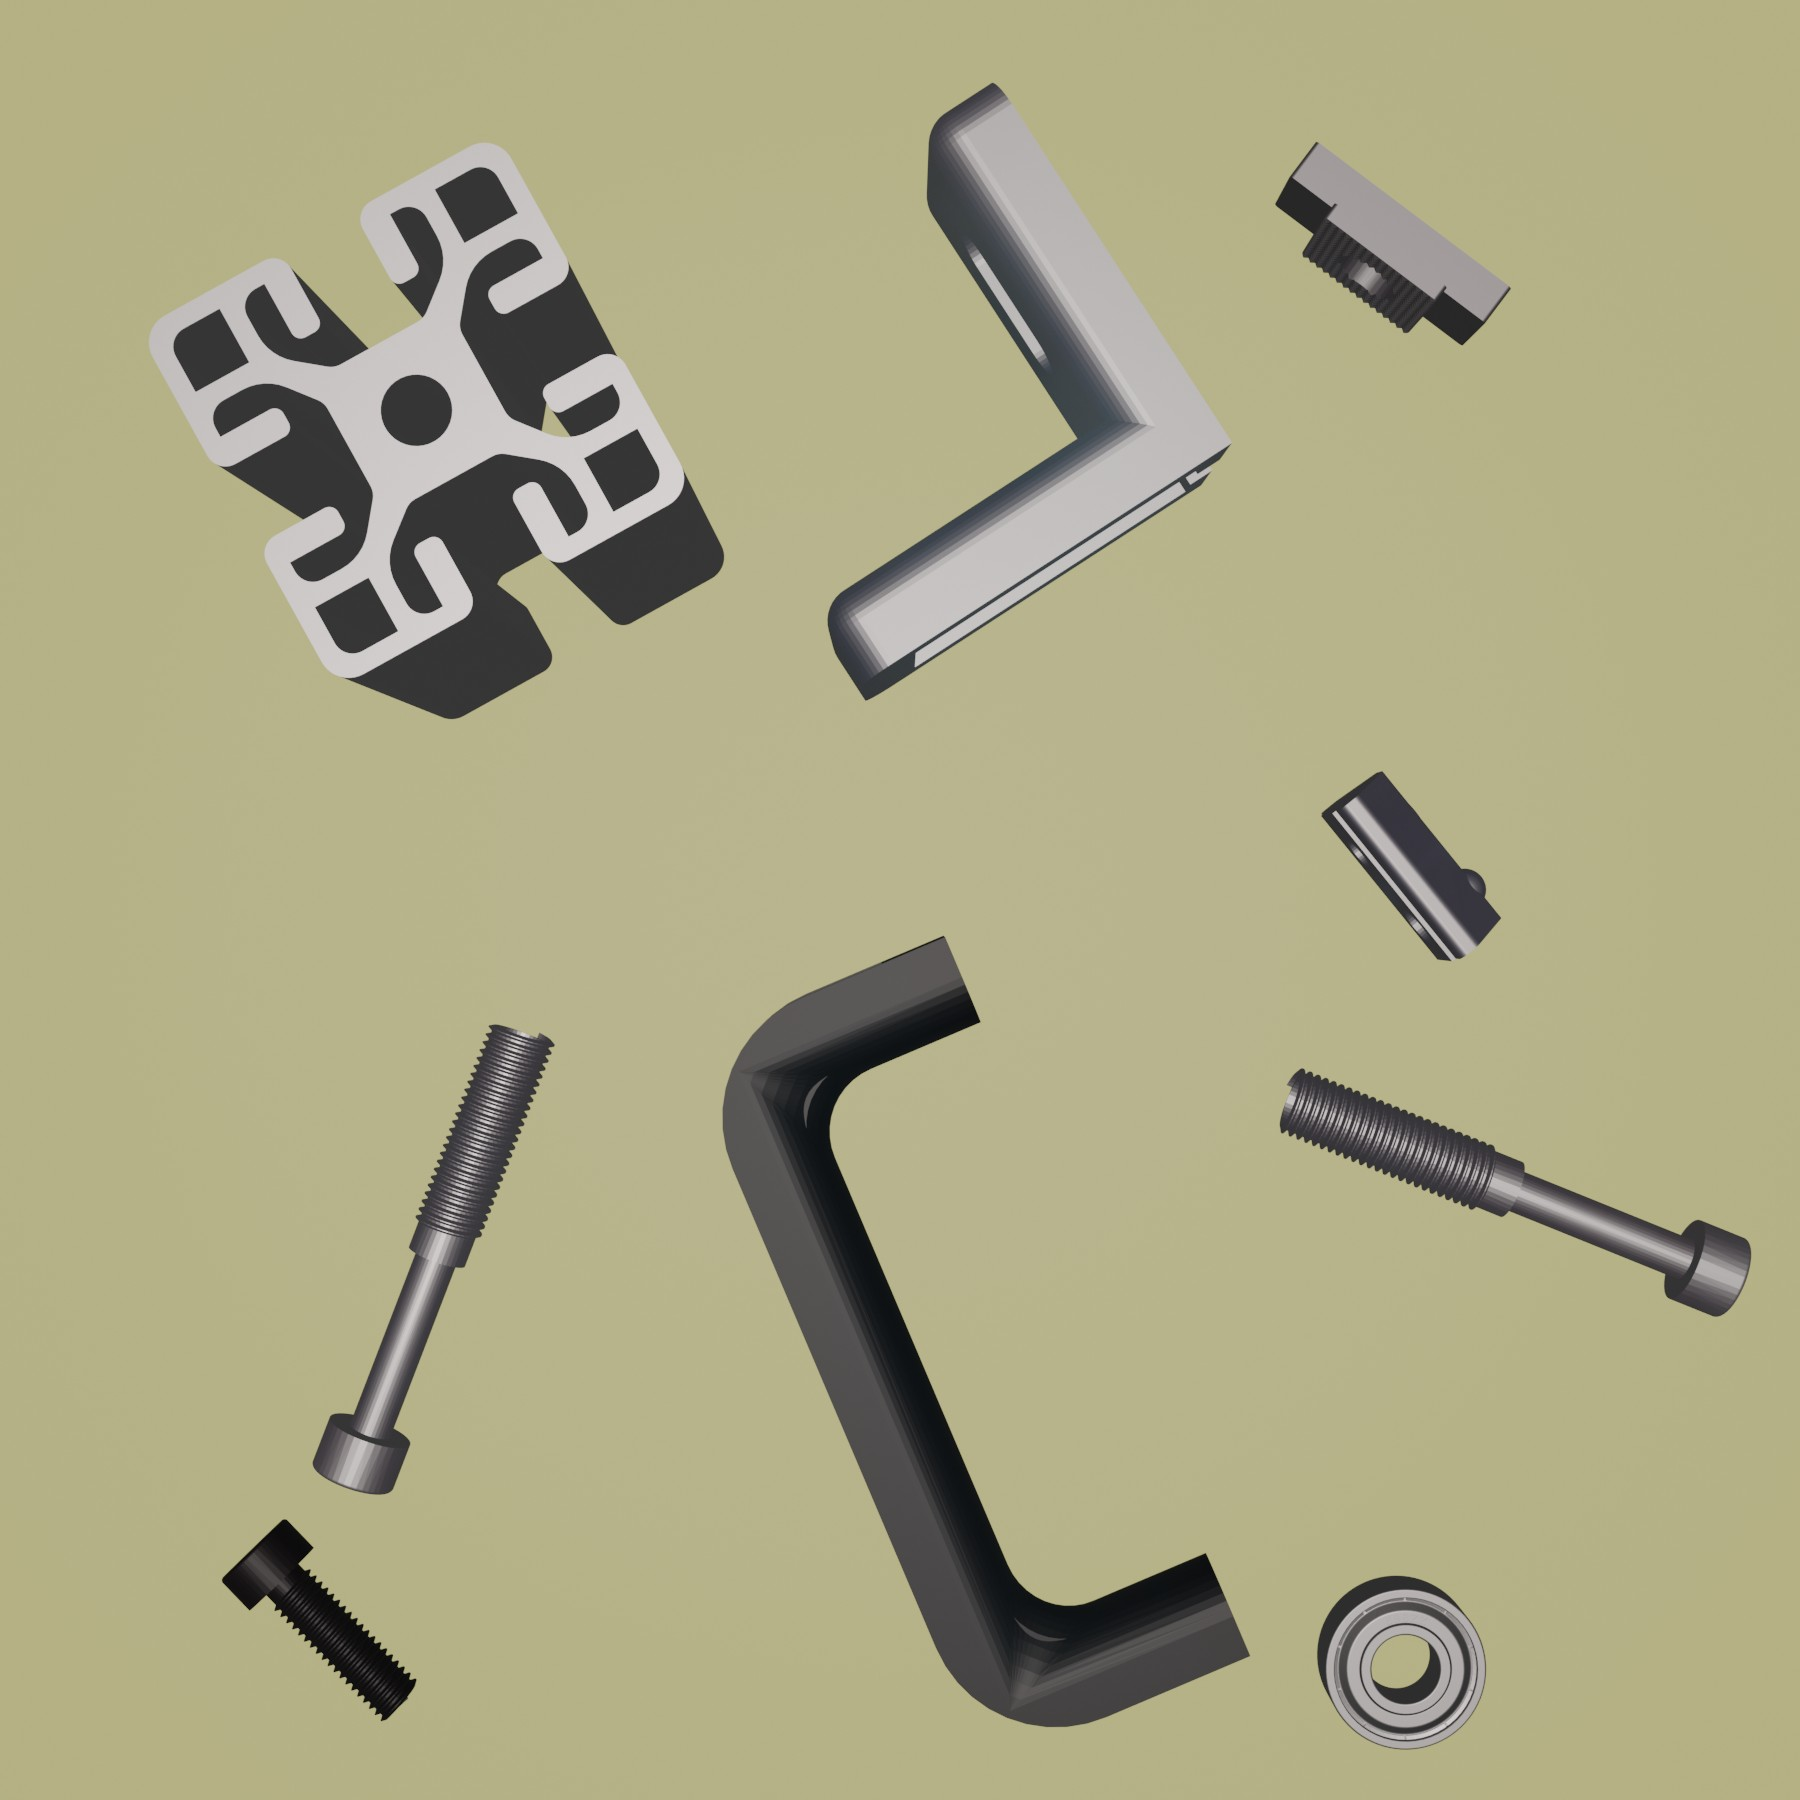Aluminium Extension: (143, 142, 725, 720)
Ball Bearing: (1315, 1573, 1488, 1751)
Multiwinkel: (824, 81, 1235, 705)
Pull Handle: (720, 935, 1254, 1731)
Shoulder Socket Head Cap Screw: (1273, 1065, 1754, 1315), (312, 1019, 555, 1497)
Socket Head Cap Screw: (219, 1513, 419, 1724)
T Nut Square: (1274, 142, 1513, 348)
T Spring Nut: (1317, 766, 1500, 964)
